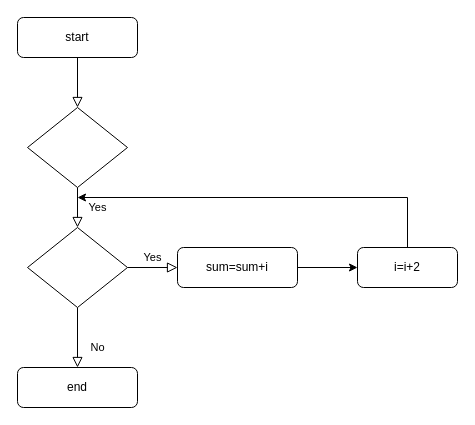
This 475x425 diagram has some shape labels left out. The shapes that lost their labels are listed below. From the top down, each one's centre as x and y in pixels, then its label:
[77,147]: input sum=0, num=n,i=2
[77,267]: i<=n
